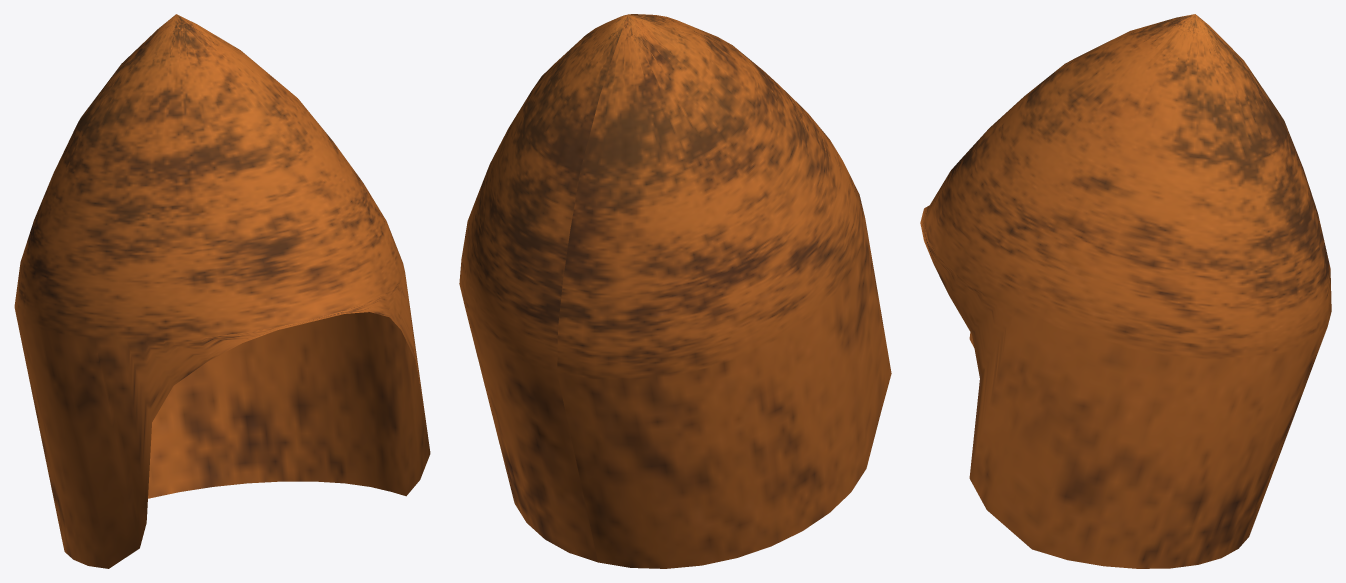
The model's file is lusi_helmet_couro_b.dae.
3 renders of one model, left to right at view 1: azimuth 30°, elevation 25°; view 2: azimuth 150°, elevation 25°; view 3: azimuth 270°, elevation 25°, orthographic. The views are drawn at different scales.
Visible parts, largest first — view 1: a_gorro_b; view 2: a_gorro_b; view 3: a_gorro_b.
Boxes of the visible parts, x1,y1,x2,y2 form: a_gorro_b: [14, 14, 430, 568]; a_gorro_b: [459, 14, 891, 568]; a_gorro_b: [920, 14, 1331, 568].
Size of the model in its own units: 0.4923 by 0.5204 by 0.7105.
